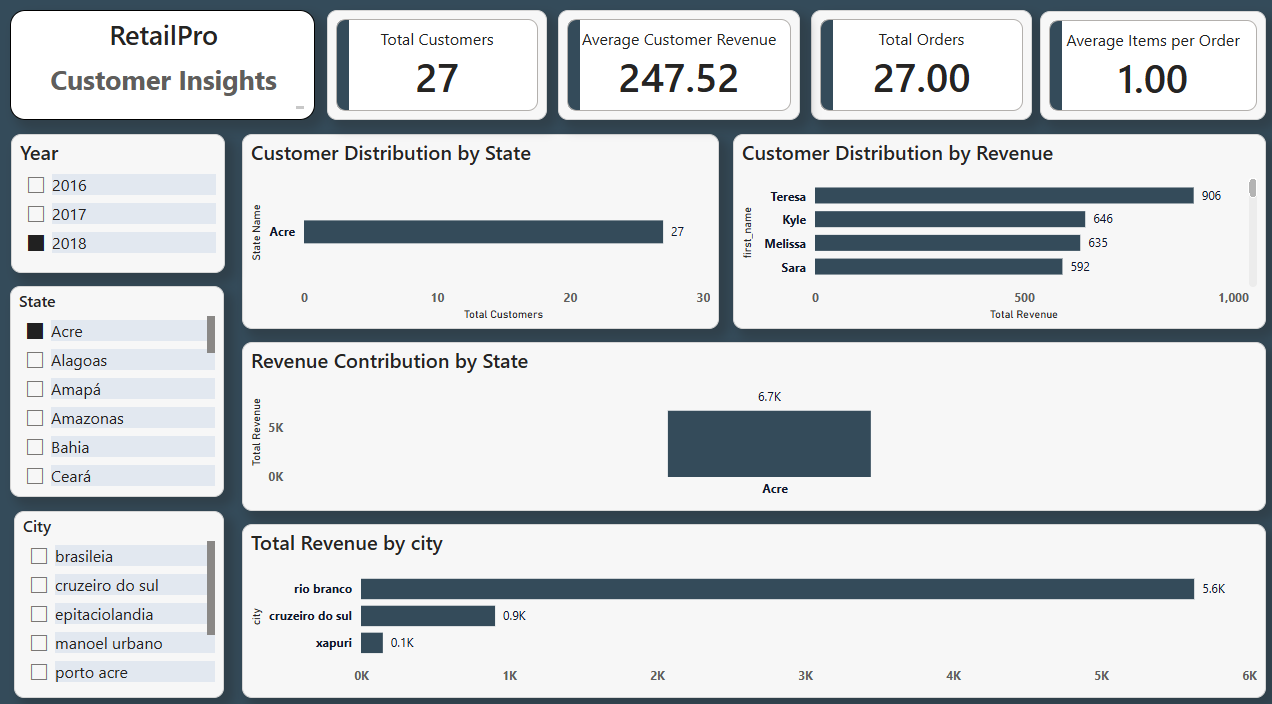

This screenshot's page, from the dashboard's own definition file:
{"tool":"powerbi","page":{"name":"Customer Insights","canvas":[1280,720],"ordinal":3},"visuals":[{"type":"textbox","title":"Retailsphere","box":[12.1,12.1,305.2,109.8],"z":0},{"type":"clusteredBarChart","title":"Customer Distribution by State","fields":{"Y":["fact_sales.Total Customers"],"Category":["dim_customer.State Name"]},"box":[243.7,136.3,477.8,194.2],"z":1000},{"type":"slicer","title":"Year","fields":{"Values":["dim_date.year"]},"box":[13.3,136.3,213.5,138.7],"z":2000},{"type":"slicer","title":"State","fields":{"Values":["dim_customer.State Name"]},"box":[12.1,288.3,213.5,211.1],"z":3000},{"type":"cardVisual","fields":{"Data":["fact_sales.Total Customers"]},"box":[329.4,12.1,219.6,109.8],"z":4000},{"type":"cardVisual","fields":{"Data":["fact_sales.Total Orders"]},"box":[813.1,12.1,220.8,109.8],"z":5000},{"type":"cardVisual","fields":{"Data":["fact_sales.Average Customer Revenue"]},"box":[559.8,12.1,242.5,109.8],"z":6000},{"type":"slicer","title":"City","fields":{"Values":["dim_customer.city"]},"box":[15.7,512.7,209.9,187],"z":7000},{"type":"cardVisual","fields":{"Data":["fact_sales.Average Items per Order"]},"box":[1042.4,13.3,225.6,108.6],"z":8000},{"type":"clusteredBarChart","title":"Customer Distribution by Revenue","fields":{"Y":["fact_sales.Total Revenue"],"Category":["dim_customer.first_name"]},"box":[734.7,136.3,533.2,194.2],"z":9000},{"type":"clusteredColumnChart","title":"Revenue Contribution by State","fields":{"Y":["fact_sales.Total Revenue"],"Category":["dim_customer.State Name"]},"box":[243.7,343.8,1024.3,168.9],"z":10000},{"type":"clusteredBarChart","fields":{"Category":["dim_customer.city"],"Y":["fact_sales.Total Revenue"]},"box":[243.7,526,1024.3,173.7],"z":11000}]}

Visuals, with their boxes in screenshot pixels (x1, y1, x2, y2), scaled from the page's 1280x720 canvas onto the 1272x704 screenshot:
"Retailsphere" textbox: rect(12, 12, 315, 119)
"Customer Distribution by State" clusteredBarChart: rect(242, 133, 717, 323)
"Year" slicer: rect(13, 133, 225, 269)
"State" slicer: rect(12, 282, 224, 488)
cardVisual - fact_sales.Total Customers: rect(327, 12, 546, 119)
cardVisual - fact_sales.Total Orders: rect(808, 12, 1027, 119)
cardVisual - fact_sales.Average Customer Revenue: rect(556, 12, 797, 119)
"City" slicer: rect(16, 501, 224, 684)
cardVisual - fact_sales.Average Items per Order: rect(1036, 13, 1260, 119)
"Customer Distribution by Revenue" clusteredBarChart: rect(730, 133, 1260, 323)
"Revenue Contribution by State" clusteredColumnChart: rect(242, 336, 1260, 501)
clusteredBarChart - dim_customer.city x fact_sales.Total Revenue: rect(242, 514, 1260, 684)
